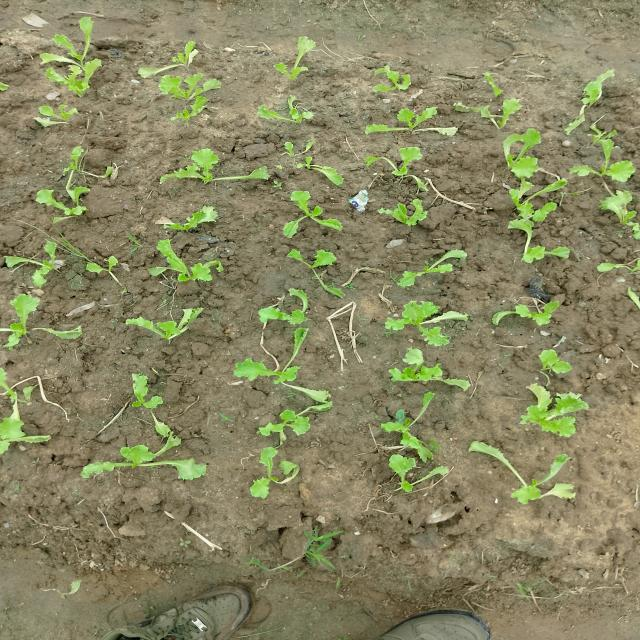Lettuce: (469, 433, 593, 517), (75, 435, 214, 482), (348, 137, 459, 190), (236, 341, 333, 398), (40, 20, 108, 96), (368, 400, 453, 456), (234, 449, 304, 516), (384, 343, 478, 392), (517, 384, 594, 442), (169, 142, 269, 185), (152, 233, 226, 287), (248, 276, 322, 330), (391, 289, 466, 342), (281, 187, 350, 242), (248, 399, 336, 442), (352, 104, 463, 136), (504, 216, 576, 265), (502, 128, 550, 196), (117, 306, 207, 342), (30, 180, 98, 227), (486, 296, 573, 332), (0, 288, 45, 355), (0, 246, 74, 284), (493, 131, 551, 178), (509, 182, 571, 222), (157, 67, 220, 106), (596, 190, 640, 241), (55, 143, 119, 178), (274, 33, 316, 86), (141, 43, 205, 77), (581, 145, 636, 184), (118, 373, 168, 415), (423, 240, 472, 282), (384, 196, 435, 236), (572, 74, 612, 120), (263, 95, 316, 126), (527, 346, 581, 375), (28, 101, 82, 123)
